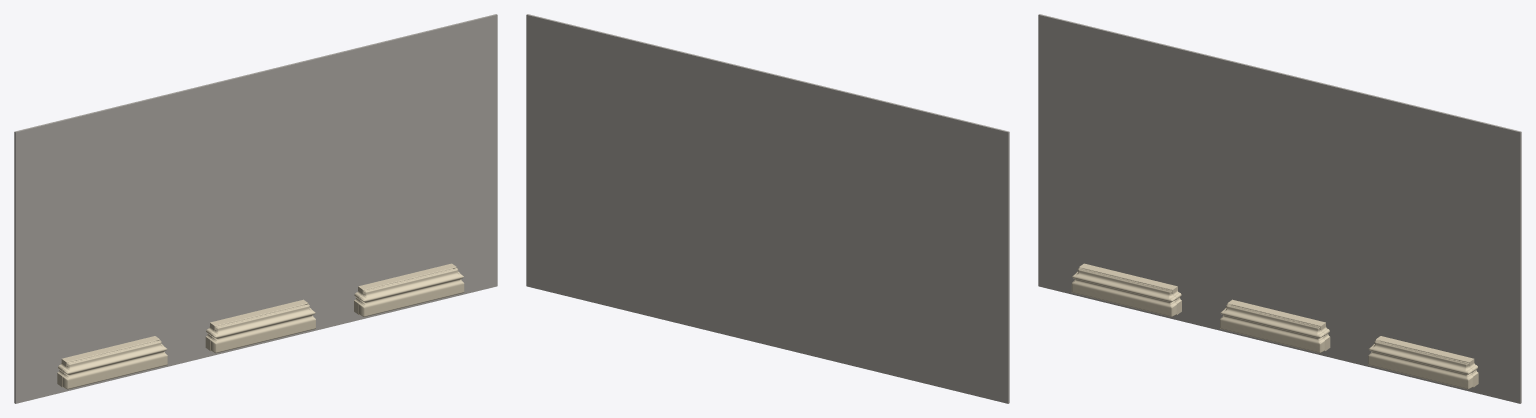
The model's file is terilgan.glb.
3 renders of one model, left to right at view 1: azimuth 30°, elevation 25°; view 2: azimuth 150°, elevation 25°; view 3: azimuth 330°, elevation 25°, orthographic.
Parts seen in each view (by area): view 1: Devor, t1, t0, t2; view 2: Devor; view 3: Devor, t1, t2, t0.
Boxes of the visible parts, left/top/right/bottom form: Devor: left=14, top=14, right=497, bottom=403; t1: left=205, top=299, right=315, bottom=353; t0: left=57, top=336, right=167, bottom=389; t2: left=354, top=263, right=464, bottom=316; Devor: left=526, top=14, right=1009, bottom=403; Devor: left=1038, top=14, right=1521, bottom=403; t1: left=1220, top=299, right=1330, bottom=353; t2: left=1368, top=336, right=1478, bottom=389; t0: left=1071, top=263, right=1181, bottom=316.
Size of the model in its own units: 2.6 by 1.4 by 0.0969.
